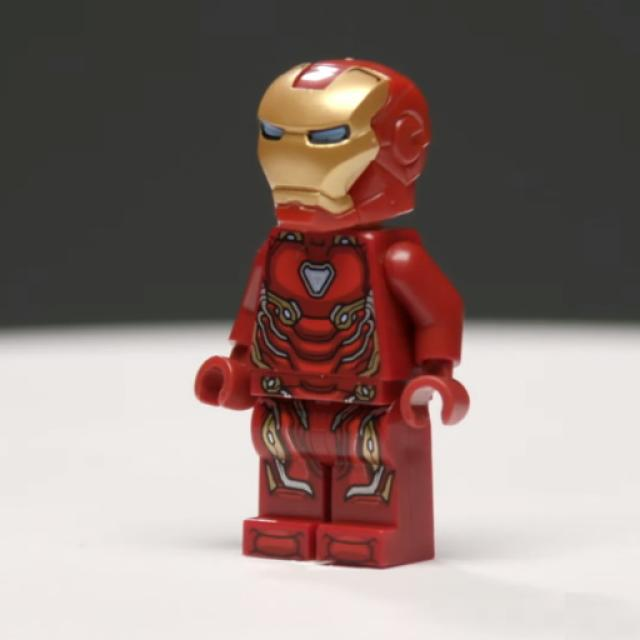Lego-Minifigures: (164, 29, 502, 596)
